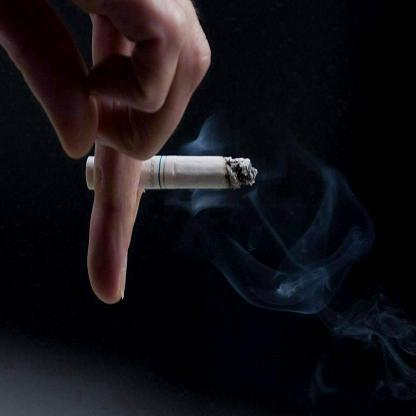cigarette: (82, 148, 261, 192)
smoke: (264, 183, 373, 319), (346, 288, 416, 416)
